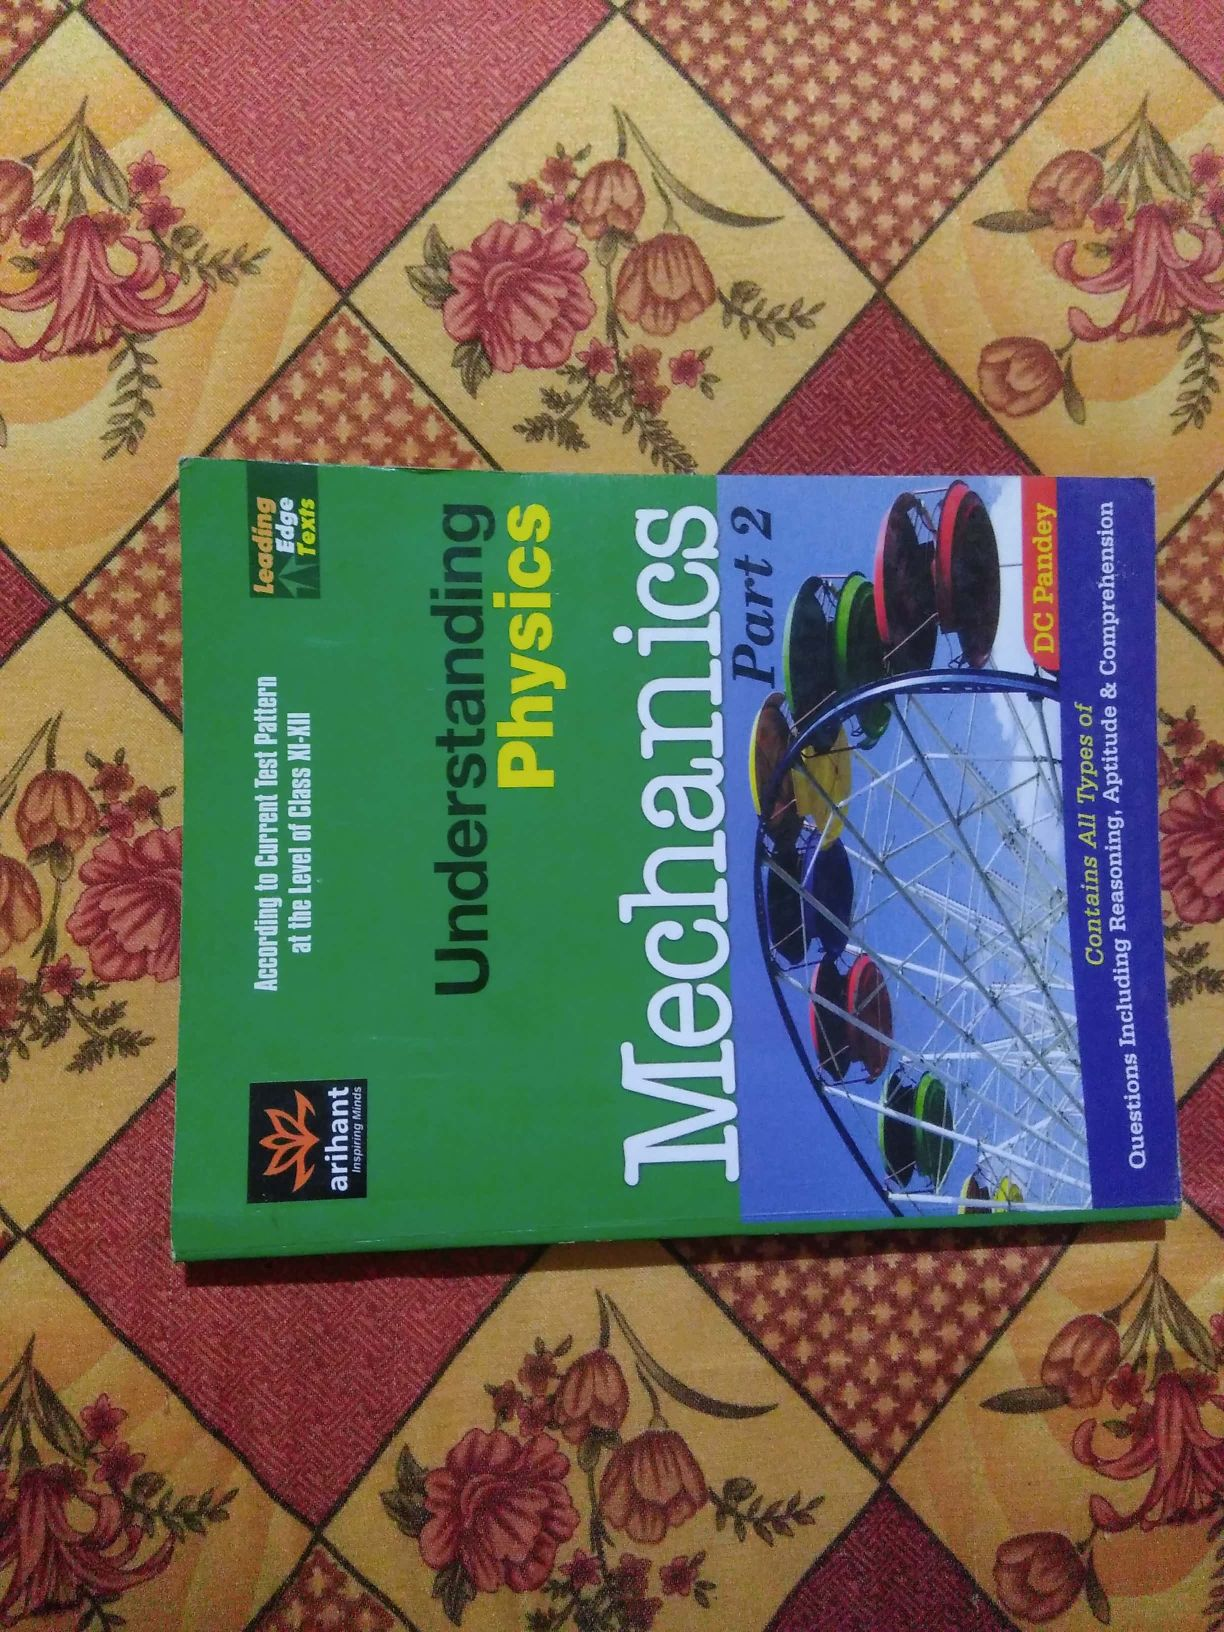mechanics: (138, 432, 1214, 1291)
